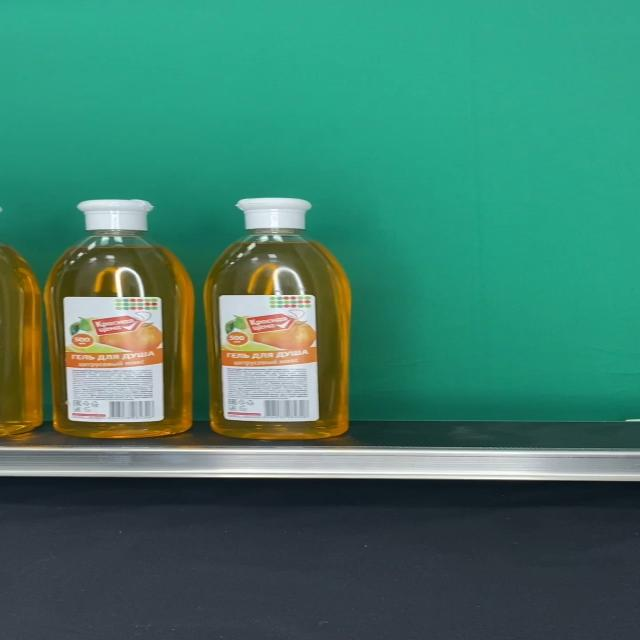Bottle: (44, 200, 196, 438), (205, 198, 350, 440)
Cap: (235, 198, 313, 230), (75, 200, 153, 232)
